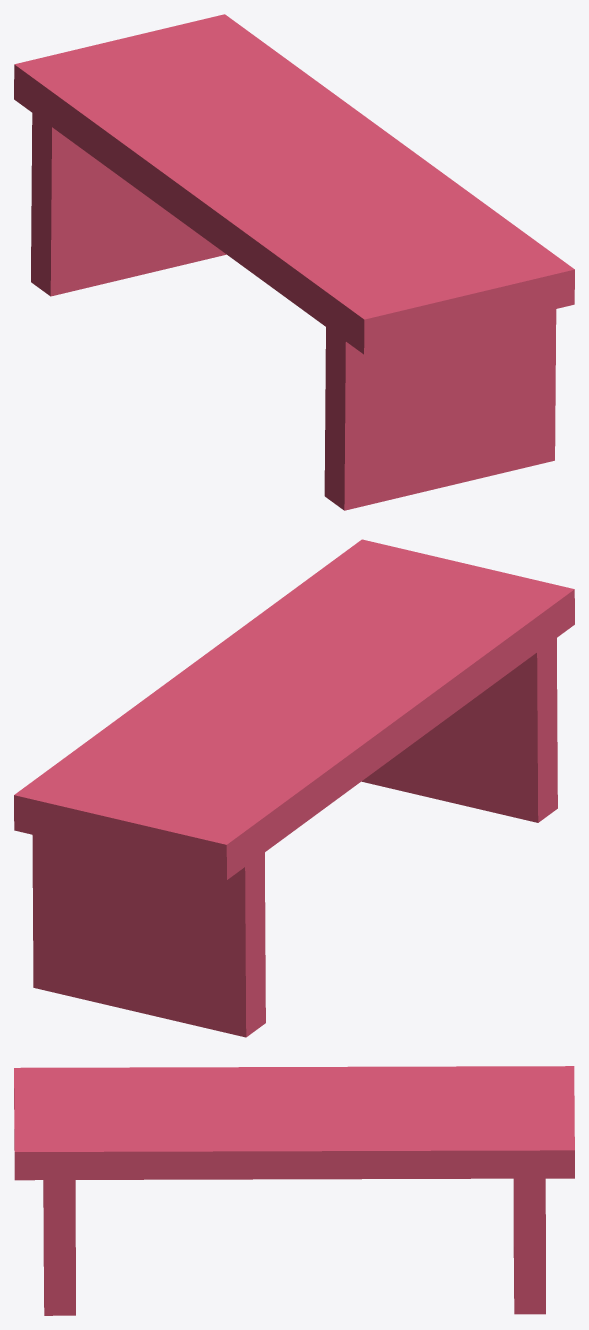
The model's file is kursi1merah.glb.
3 views of the same model, one above another, from view 1: azimuth 30°, elevation 25°; view 2: azimuth 150°, elevation 25°; view 3: azimuth 270°, elevation 25° (orthographic). The views are drawn at different scales.
Visible parts, largest first — view 1: Cube; view 2: Cube; view 3: Cube.
Part boxes in pixels (left/top/right/bottom): Cube: left=14, top=14, right=574, bottom=510; Cube: left=14, top=539, right=574, bottom=1037; Cube: left=14, top=1066, right=574, bottom=1315.
Bounding box in the file's own units: 0.2177 × 0.2008 × 0.6126.
